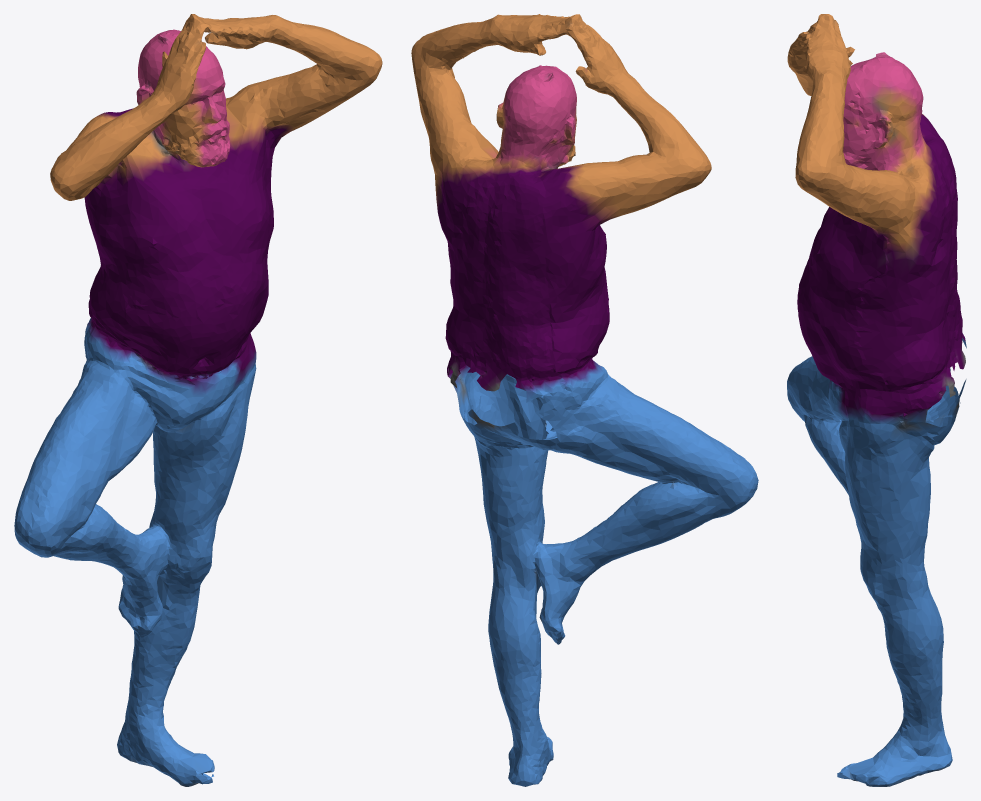
3 renders of one model, left to right at view 1: azimuth 30°, elevation 25°; view 2: azimuth 150°, elevation 25°; view 3: azimuth 270°, elevation 25°, orthographic. The views are drawn at different scales.
Visible parts, largest first — view 1: geometry_0.002; view 2: geometry_0.002; view 3: geometry_0.002.
Boxes of the visible parts, left/top/right/bottom form: geometry_0.002: left=14, top=14, right=382, bottom=786; geometry_0.002: left=411, top=14, right=758, bottom=786; geometry_0.002: left=787, top=14, right=966, bottom=786.
Bounding box in the file's own units: 0.7775 × 1.61 × 0.3466.
